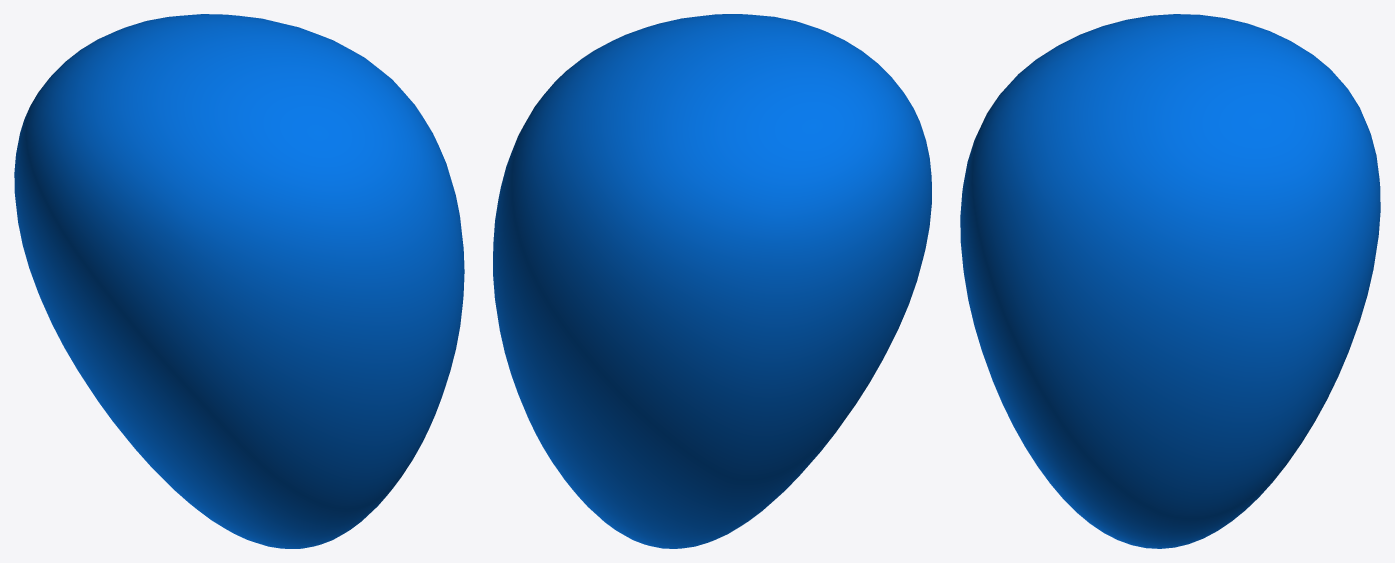
File: baloon.fbx
3 views of the same model, side by side, from view 1: azimuth 30°, elevation 25°; view 2: azimuth 150°, elevation 25°; view 3: azimuth 270°, elevation 25° (orthographic). The views are drawn at different scales.
Parts seen in each view (by area): view 1: Cube; view 2: Cube; view 3: Cube.
Part boxes in pixels (<box>): Cube: <box>14,14,464,548</box>; Cube: <box>493,14,931,548</box>; Cube: <box>960,14,1380,548</box>.
Size of the model in its own units: 102 by 132 by 106.
